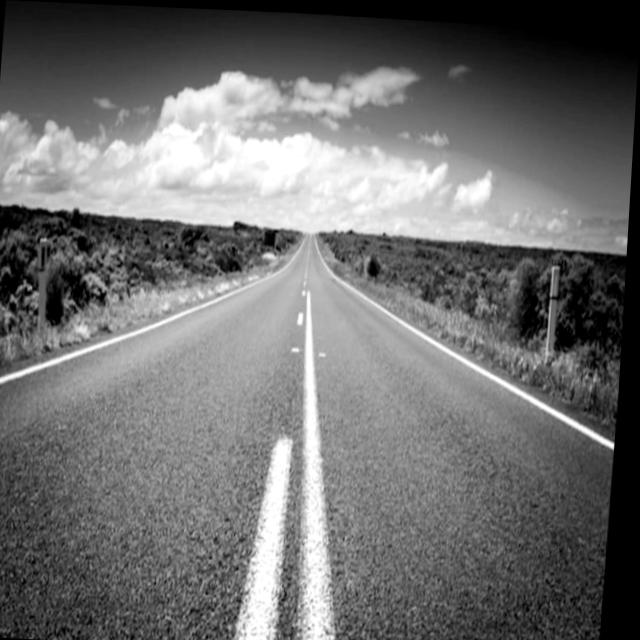cleat: (0, 111, 634, 640)
